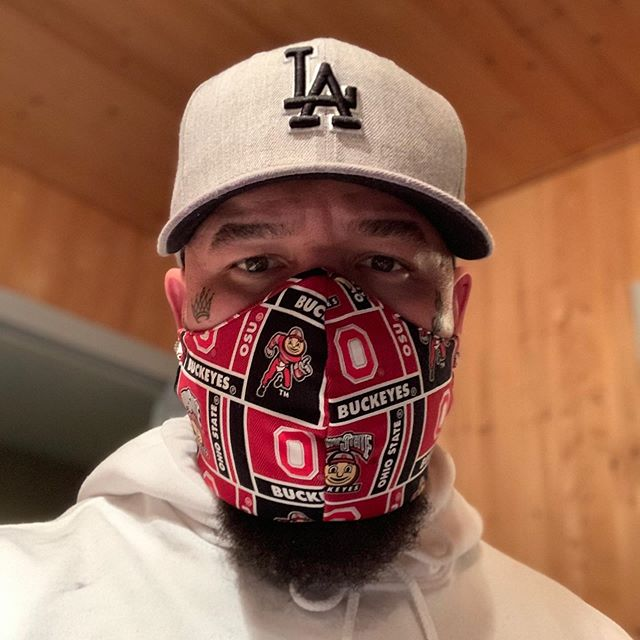homemade: (160, 277, 484, 540)
